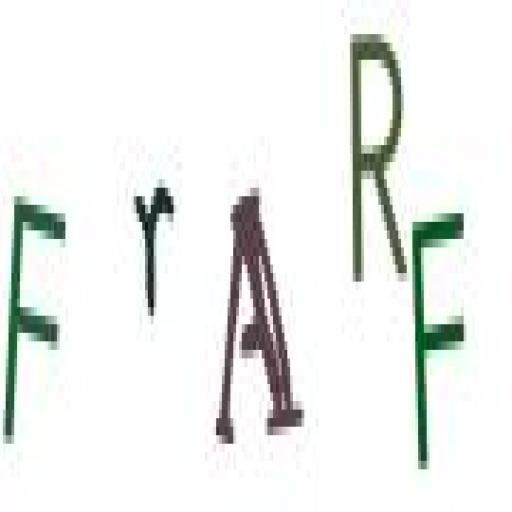A: (214, 174, 312, 465)
F: (1, 184, 71, 475), (410, 207, 470, 479)
R: (341, 21, 410, 301)
r: (130, 158, 179, 340)
